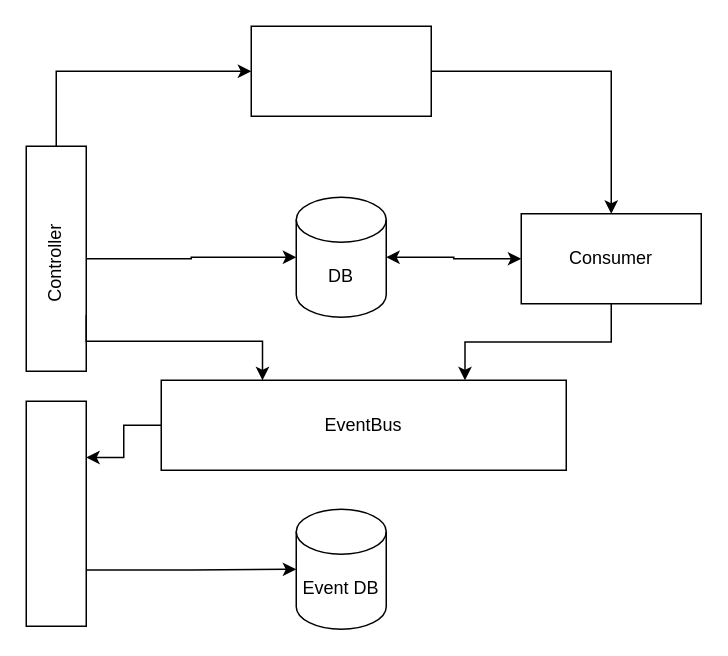
Image size: 728x656. Some labels were removed from this diagram. Each missing label, with the centre of its shape:
"Event Listener" goes at point (55, 513).
"Queue" goes at point (340, 70).
